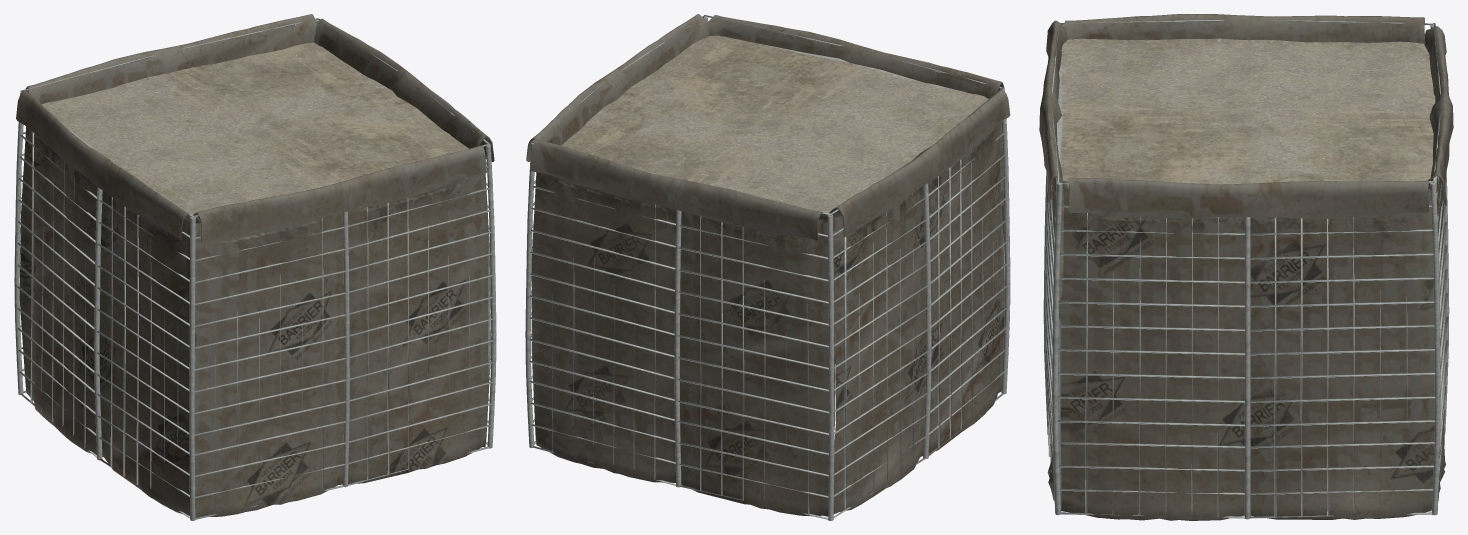
The picture shows the model from 3 angles, left to right: view 1: azimuth 30°, elevation 25°; view 2: azimuth 150°, elevation 25°; view 3: azimuth 270°, elevation 25°; orthographic projection. The views are drawn at different scales.
Visible parts, largest first — view 1: HescoBarrier_LOW_Material #25_0; view 2: HescoBarrier_LOW_Material #25_0; view 3: HescoBarrier_LOW_Material #25_0.
Part boxes in pixels (<box>): HescoBarrier_LOW_Material #25_0: <box>14,14,496,520</box>; HescoBarrier_LOW_Material #25_0: <box>525,14,1010,520</box>; HescoBarrier_LOW_Material #25_0: <box>1039,14,1453,520</box>.
Size of the model in its own units: 72.64 by 65.72 by 72.29.
Materials: 1 (1 with a texture image).
